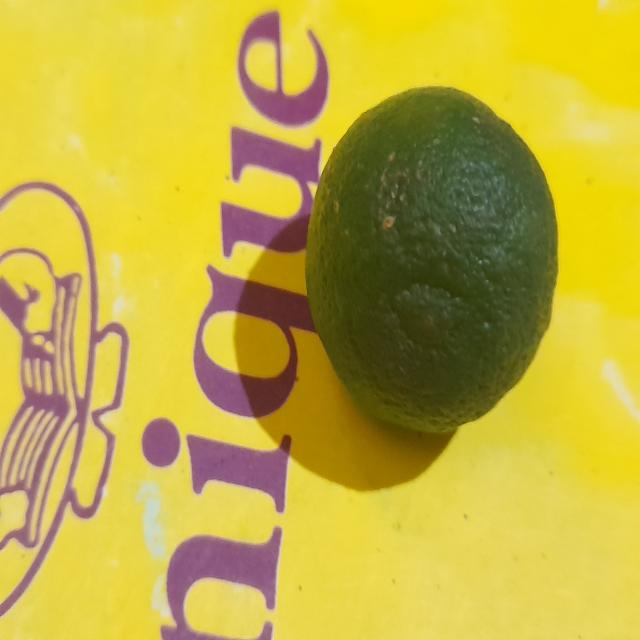heathy: (304, 79, 558, 446)
